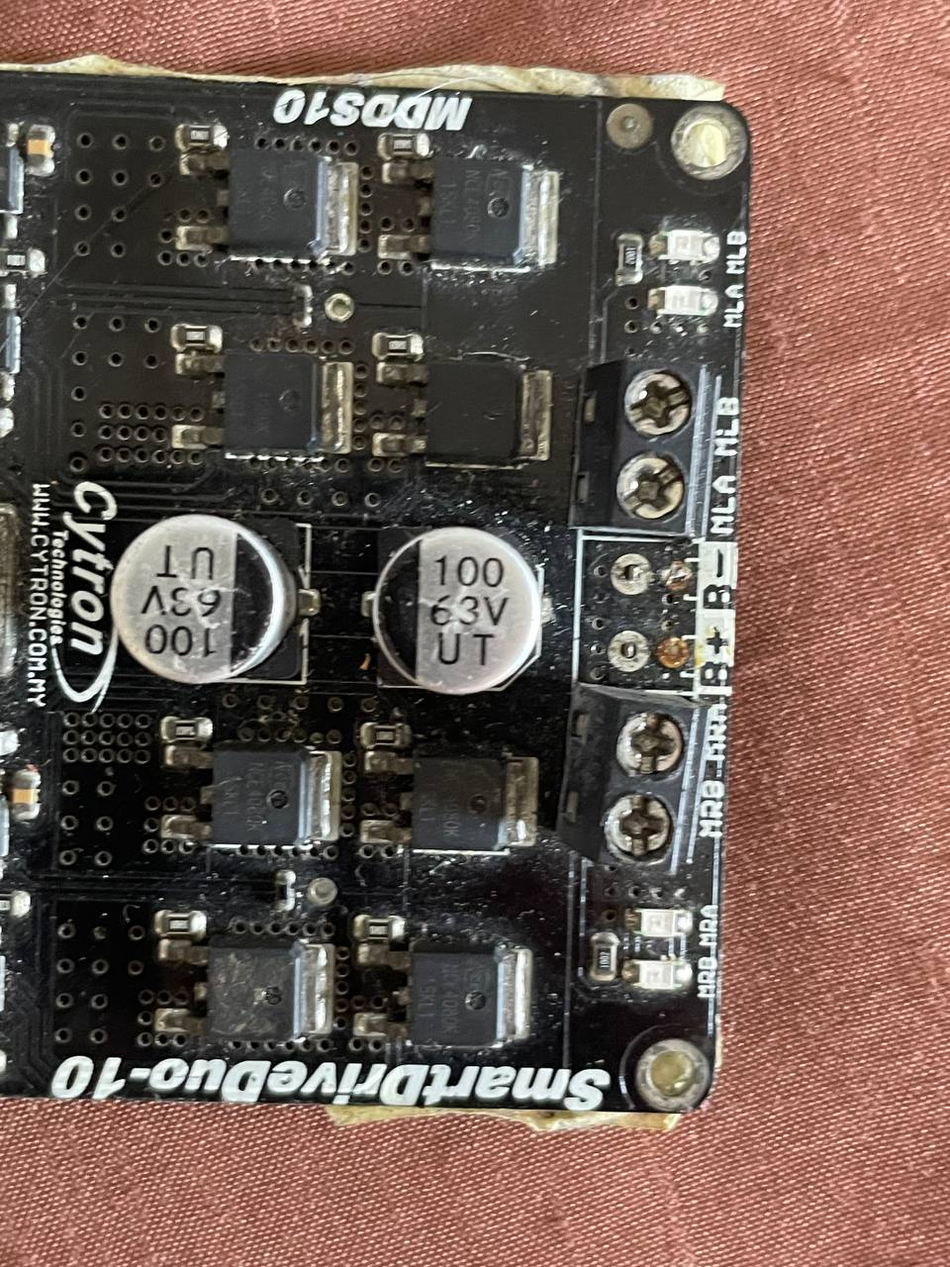missing_tb: (563, 520, 740, 709)
